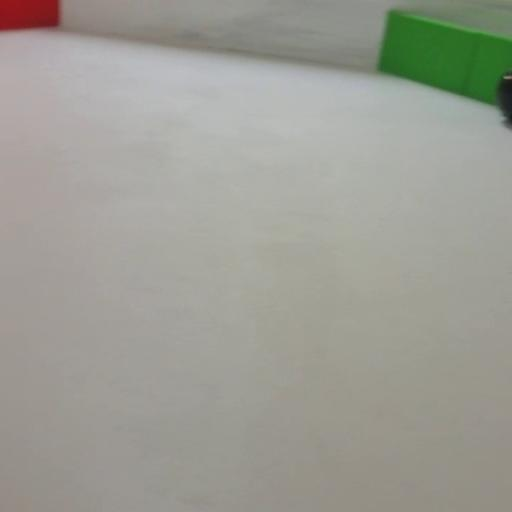dead: (495, 71, 512, 122)
